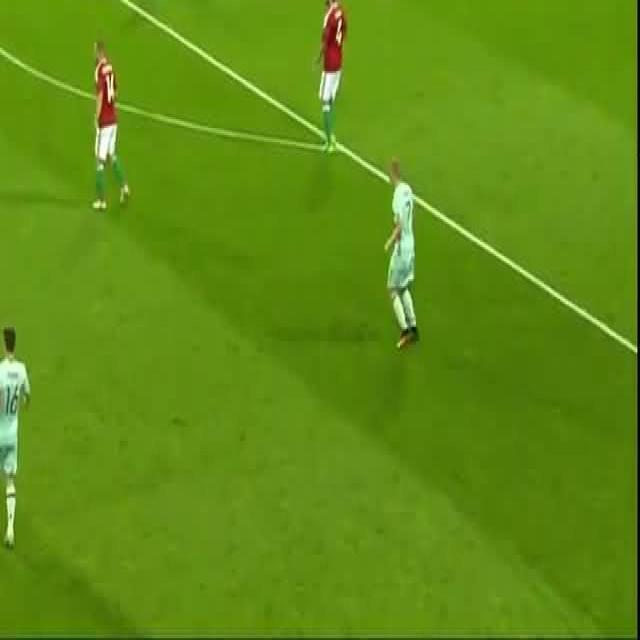player-white: (383, 159, 420, 349), (0, 325, 29, 551), (91, 39, 129, 210), (317, 0, 344, 154)
